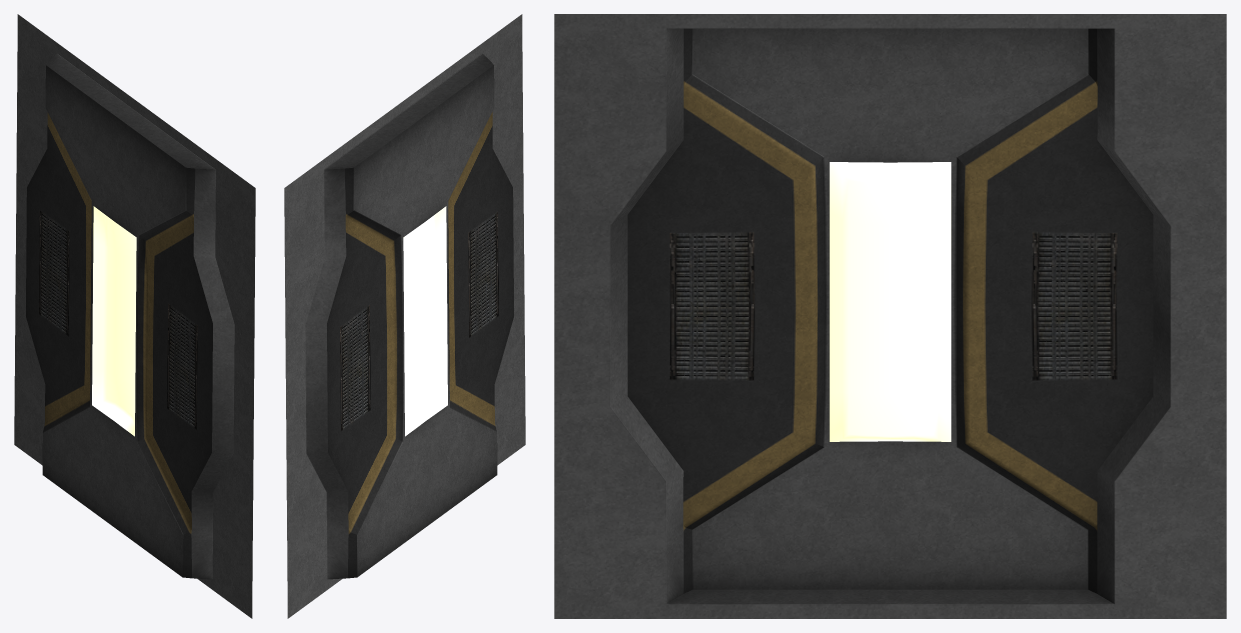
File: sci-fi_modular_ceiling.glb
3 renders of one model, left to right at view 1: azimuth 30°, elevation 25°; view 2: azimuth 150°, elevation 25°; view 3: azimuth 270°, elevation 25°, orthographic. The views are drawn at different scales.
Parts seen in each view (by area): view 1: Object_2; view 2: Object_2; view 3: Object_2.
Part boxes in pixels (x1=…): Object_2: x1=14, y1=14, x2=255, y2=618; Object_2: x1=284, y1=14, x2=525, y2=618; Object_2: x1=554, y1=14, x2=1226, y2=618.
Size of the model in its own units: 17.58 by 299 by 300.
Materials: 1 (1 with a texture image).
